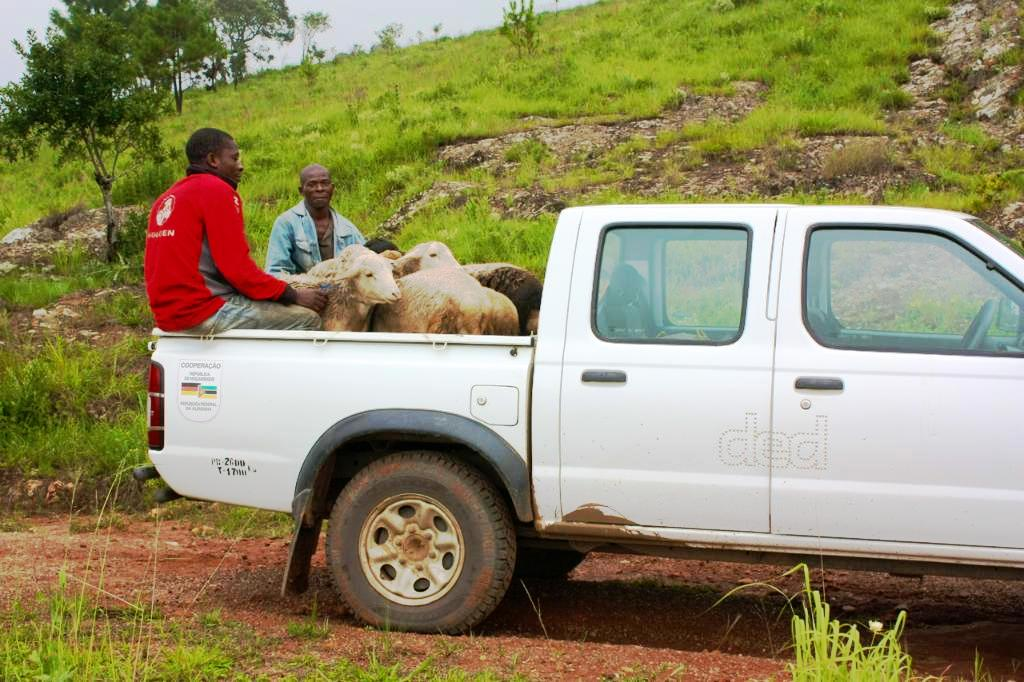Sheep: (314, 243, 525, 342), (360, 233, 543, 334), (249, 250, 405, 344), (298, 233, 468, 292)
